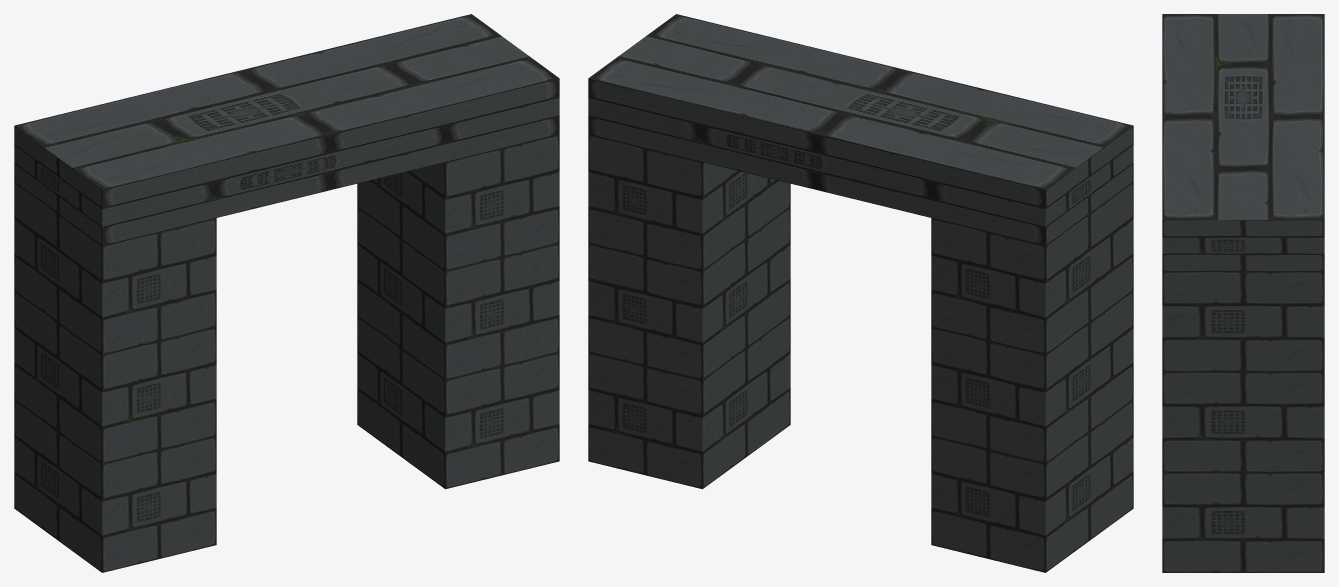
File: door_frame.glb
3 views of the same model, side by side, from view 1: azimuth 30°, elevation 25°; view 2: azimuth 150°, elevation 25°; view 3: azimuth 270°, elevation 25° (orthographic). The views are drawn at different scales.
Parts seen in each view (by area): view 1: CandidateMesh; view 2: CandidateMesh; view 3: CandidateMesh.
Part boxes in pixels (left/top/right/bottom): CandidateMesh: left=14, top=14, right=559, bottom=572; CandidateMesh: left=588, top=14, right=1133, bottom=572; CandidateMesh: left=1162, top=14, right=1324, bottom=572.
Bounding box in the file's own units: 3 × 2.4 × 1.
Materials: 1 (1 with a texture image).
